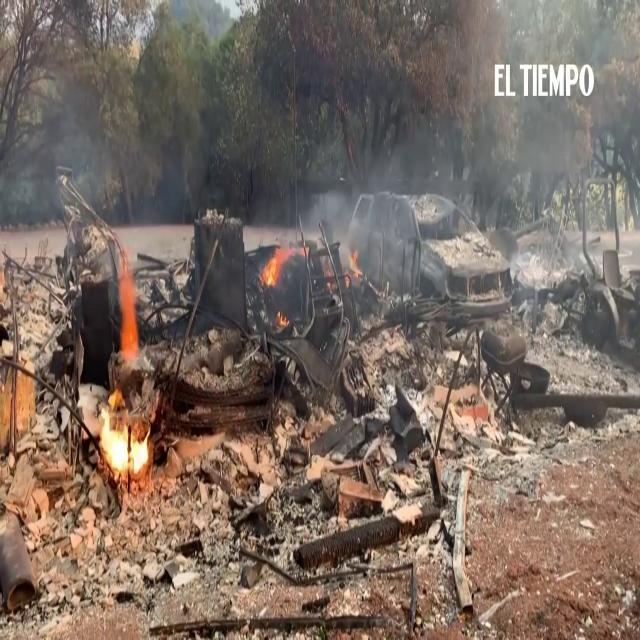Fire: (101, 400, 152, 470), (116, 242, 142, 361), (261, 245, 291, 283), (348, 248, 364, 276), (276, 308, 290, 328)
